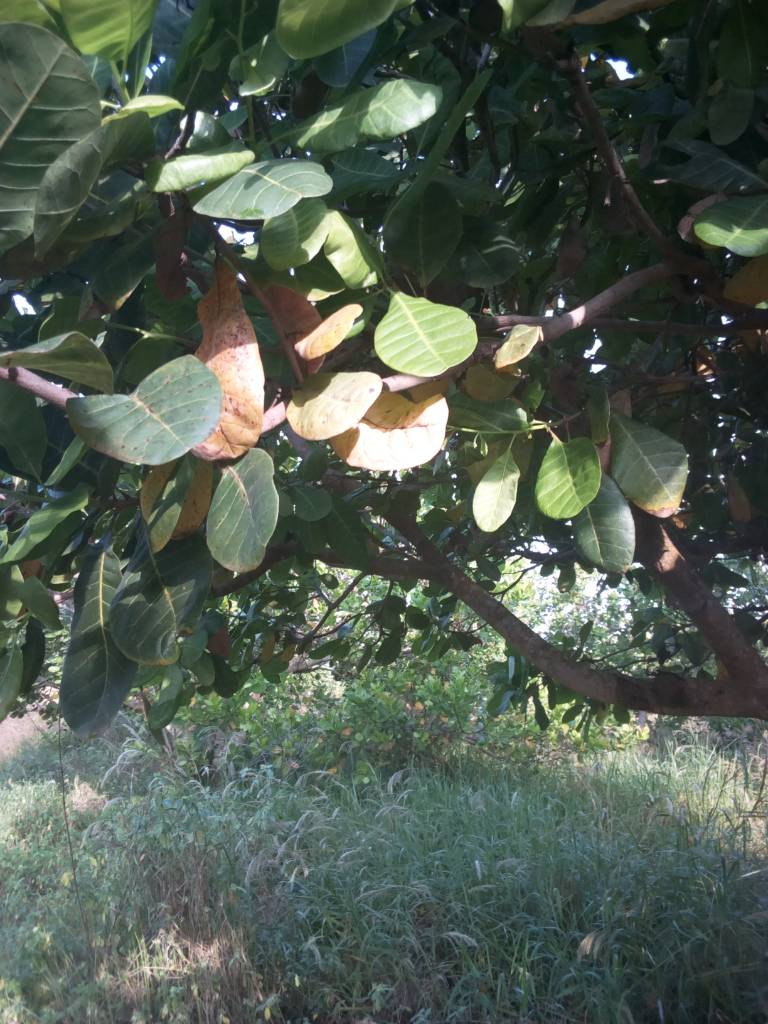Anthracnose: (219, 263, 260, 460)
